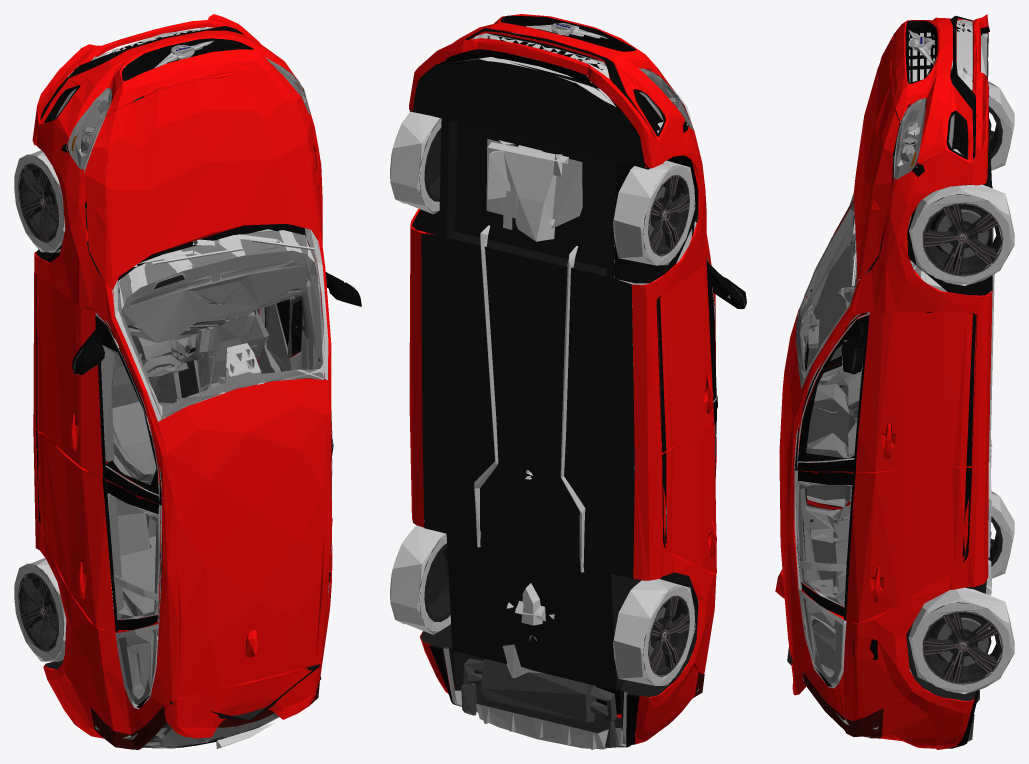
The model's file is volvo_v60_reduced24000.obj.
3 views of the same model, side by side, from view 1: azimuth 30°, elevation 25°; view 2: azimuth 150°, elevation 25°; view 3: azimuth 270°, elevation 25° (orthographic). The views are drawn at different scales.
Parts seen in each view (by area): view 1: chassis_carpaint_0, bonnet_ok_carpaint_0, windscreen_ok_glass_0, bump_front_ok_carpaint_0, torpeda_salon.7_0, door_lf_ok_carpaint_0, door_lr_ok_carpaint_0, chassis_chassis.4_0, sed_salon.5_0, boot_ok_carpaint_0, door_lf_ok_glass_0, door_lr_ok_glass_0 (+30 smaller); view 2: chassis_chassis.5_0, chassis_carpaint_0, chassis_chassis.4_0, bump_front_ok_carpaint_0, door_lf_ok_carpaint_0, door_lr_ok_carpaint_0, chassis_chassis.13_0, bump_front_ok_chassis.5_0, bump_front_ok_chassis.6_0, wheel.002_wheel.3_0, wheel.003_wheel.3_0, bump_rear_ok_chassis.8_0 (+20 smaller); view 3: chassis_carpaint_0, door_rf_ok_carpaint_0, door_rr_ok_carpaint_0, bump_front_ok_carpaint_0, windscreen_ok_glass_0, bonnet_ok_carpaint_0, door_rr_ok_glass_0, door_rf_ok_glass_0, bump_rear_ok_carpaint_0, door_rf_ok_chassis.6_0, wheel_chassis.1_0, wheel.001_chassis.1_0 (+32 smaller).
Part boxes in pixels (x1,y1,x2,y2): chassis_carpaint_0: (33, 70, 331, 734); bonnet_ok_carpaint_0: (84, 70, 320, 289); windscreen_ok_glass_0: (118, 230, 324, 704); bump_front_ok_carpaint_0: (32, 14, 305, 178); torpeda_salon.7_0: (115, 229, 306, 401); door_lf_ok_carpaint_0: (35, 274, 160, 489); door_lr_ok_carpaint_0: (37, 431, 160, 632); chassis_chassis.4_0: (118, 230, 329, 708); sed_salon.5_0: (111, 312, 255, 613); boot_ok_carpaint_0: (140, 665, 320, 749); door_lf_ok_glass_0: (73, 345, 157, 490); door_lr_ok_glass_0: (108, 494, 157, 618); chassis_chassis.5_0: (413, 74, 644, 689); chassis_carpaint_0: (409, 69, 716, 719); chassis_chassis.4_0: (474, 139, 692, 678); bump_front_ok_carpaint_0: (409, 14, 692, 168); door_lf_ok_carpaint_0: (657, 263, 714, 454); door_lr_ok_carpaint_0: (662, 422, 716, 573); chassis_chassis.13_0: (461, 658, 619, 747); bump_front_ok_chassis.5_0: (413, 60, 645, 167); bump_front_ok_chassis.6_0: (435, 15, 687, 157); wheel.002_wheel.3_0: (613, 579, 695, 685); wheel.003_wheel.3_0: (613, 160, 695, 265); bump_rear_ok_chassis.8_0: (420, 624, 692, 733); chassis_carpaint_0: (775, 121, 992, 720); door_rf_ok_carpaint_0: (798, 311, 976, 472); door_rr_ok_carpaint_0: (798, 467, 970, 623); bump_front_ok_carpaint_0: (891, 14, 989, 200); windscreen_ok_glass_0: (796, 200, 869, 737); bonnet_ok_carpaint_0: (853, 36, 899, 282); door_rr_ok_glass_0: (798, 482, 851, 603); door_rf_ok_glass_0: (799, 340, 861, 461); bump_rear_ok_carpaint_0: (881, 681, 974, 749); door_rf_ok_chassis.6_0: (794, 312, 977, 471); wheel_chassis.1_0: (923, 194, 1003, 275); wheel.001_chassis.1_0: (923, 602, 1003, 684).
Size of the model in its own units: 2.13 by 4.85 by 1.54.
